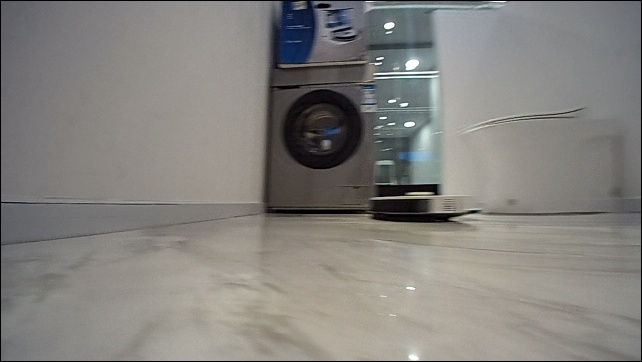toilet: (455, 105, 626, 215)
washing_machine: (262, 61, 377, 214)
